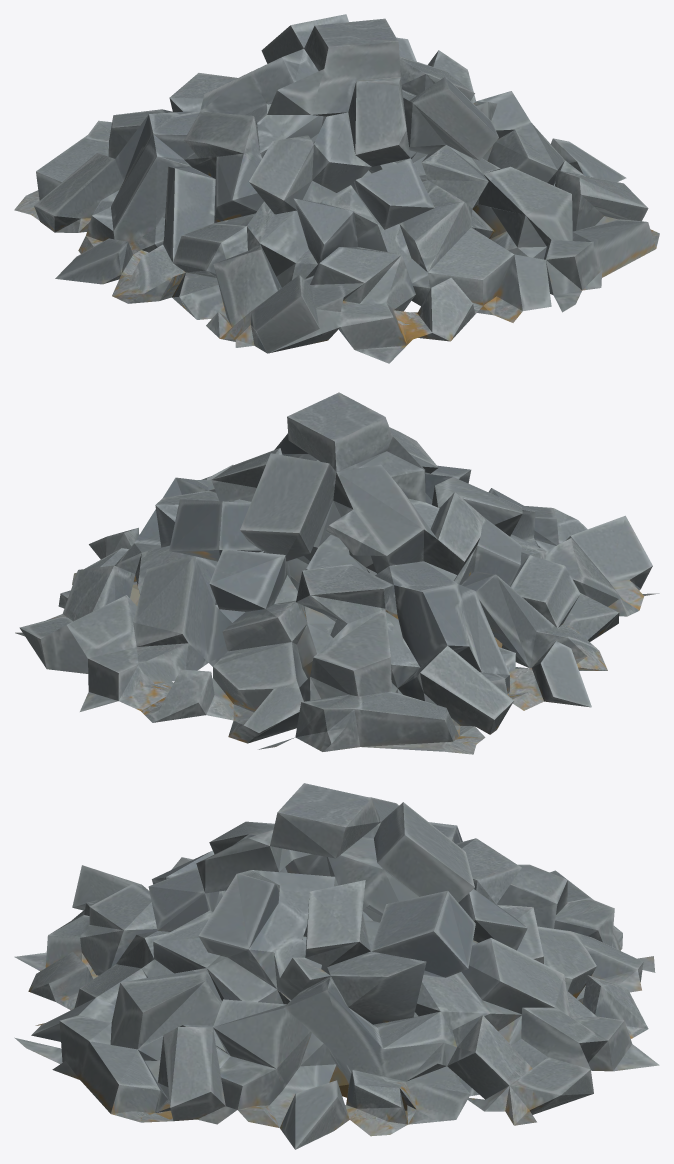
File: rubble-pile.hq.glb
3 renders of one model, top to bottom at view 1: azimuth 30°, elevation 25°; view 2: azimuth 150°, elevation 25°; view 3: azimuth 270°, elevation 25°, orthographic. The views are drawn at different scales.
Parts seen in each view (by area): view 1: output_unwrapped; view 2: output_unwrapped; view 3: output_unwrapped.
Boxes of the visible parts, box(x1,y1,x2,y2) form: output_unwrapped: box(14, 14, 659, 363); output_unwrapped: box(15, 392, 659, 754); output_unwrapped: box(14, 783, 659, 1149).
Size of the model in its own units: 1.87 by 0.7326 by 1.84.
1 material, 1 textured.
